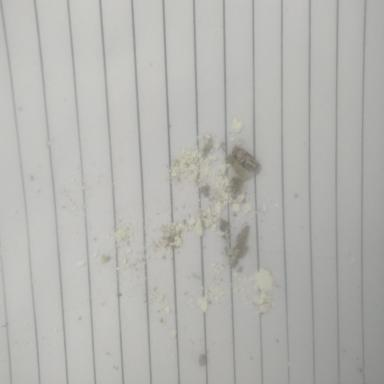pbw: (231, 146, 261, 174), (225, 154, 252, 182), (233, 224, 250, 259)
